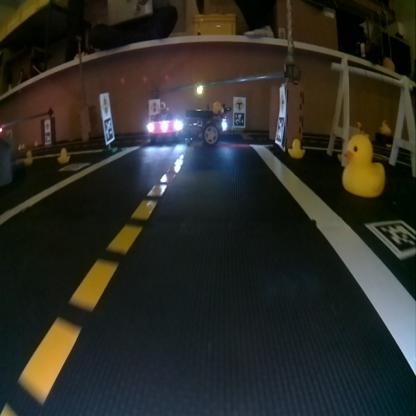Duckie: (343, 133, 384, 197), (287, 138, 305, 158), (57, 147, 68, 162)
Duckiebot: (184, 103, 226, 144), (147, 111, 182, 142)
Intersection sign: (280, 89, 286, 110), (234, 98, 244, 109)
QR code: (363, 219, 414, 259), (60, 161, 89, 171), (102, 117, 114, 141), (275, 118, 282, 142), (234, 112, 244, 124)
Signal sign: (100, 96, 110, 114)
Traffic light: (195, 84, 203, 93)
